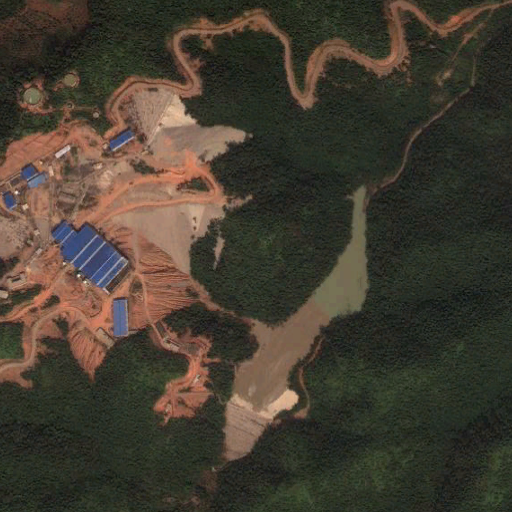tp: (220, 187, 371, 462)
